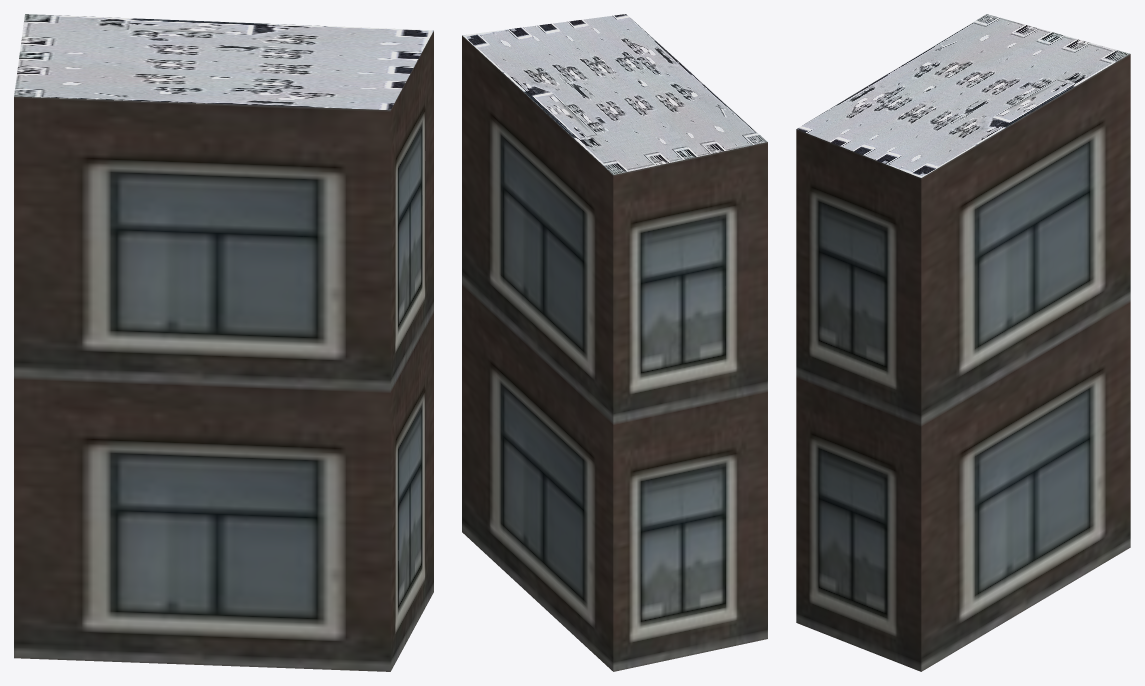
The model's file is ResTex__311.fbx.
3 renders of one model, left to right at view 1: azimuth 30°, elevation 25°; view 2: azimuth 150°, elevation 25°; view 3: azimuth 270°, elevation 25°, orthographic. The views are drawn at different scales.
Parts seen in each view (by area): view 1: CityEngineMaterial_16_m, CityEngineMaterial_15_m; view 2: CityEngineMaterial_16_m, CityEngineMaterial_15_m; view 3: CityEngineMaterial_16_m, CityEngineMaterial_15_m.
Part boxes in pixels (x1,y1,x2,y2): CityEngineMaterial_16_m: [14, 31, 433, 671]; CityEngineMaterial_15_m: [14, 14, 433, 110]; CityEngineMaterial_16_m: [462, 35, 767, 671]; CityEngineMaterial_15_m: [462, 14, 767, 174]; CityEngineMaterial_16_m: [796, 54, 1130, 671]; CityEngineMaterial_15_m: [797, 14, 1130, 177].
Size of the model in its own units: 4.28 by 6 by 3.68.
2 materials, 2 textured.
